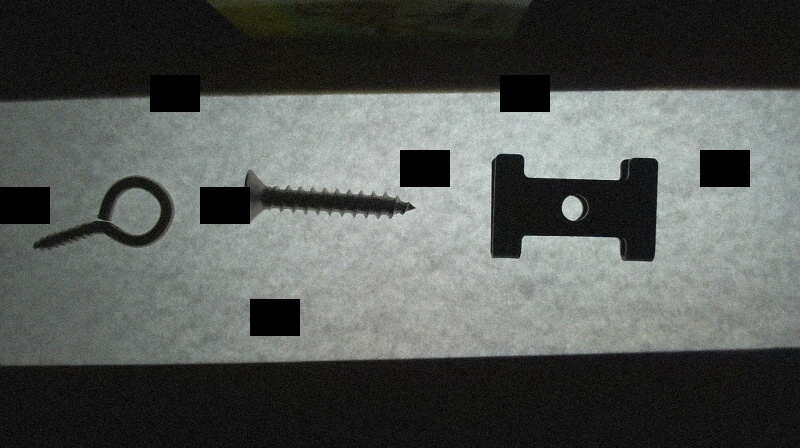O001: (25, 172, 183, 257)
O002: (486, 148, 664, 263)
S001: (241, 168, 416, 229)
